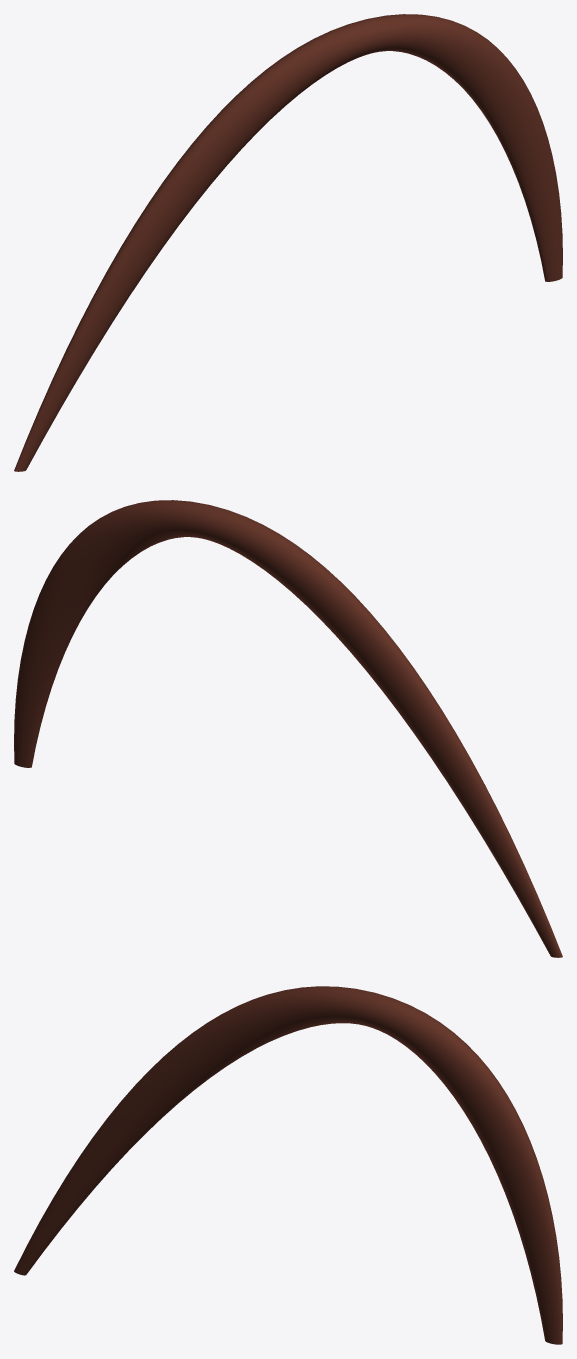
Rendered from brow.fbx.
3 renders of one model, top to bottom at view 1: azimuth 30°, elevation 25°; view 2: azimuth 150°, elevation 25°; view 3: azimuth 330°, elevation 25°, orthographic.
Parts seen in each view (by area): view 1: NurbsPath; view 2: NurbsPath; view 3: NurbsPath.
Boxes of the visible parts, x1,y1,x2,y2 form: NurbsPath: [14, 14, 562, 471]; NurbsPath: [14, 500, 562, 957]; NurbsPath: [14, 986, 562, 1344].
Bounding box in the file's own units: 314 × 200 × 16.5.
